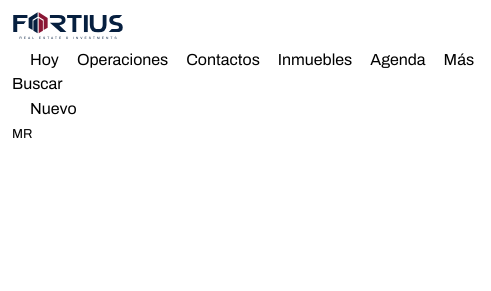
Test: la barra superior lleva seis píldoras, el buscador, «Nuevo» y la cuenta; sin Administración a la vista del asesor
This screenshot has width=491, height=291.
Check: the button "Buscar" is shown, box [12,72,63,96]
Click the button with aria-label "Mariana Ruiz, Asesor" at (22, 133), box [12,121,32,145]
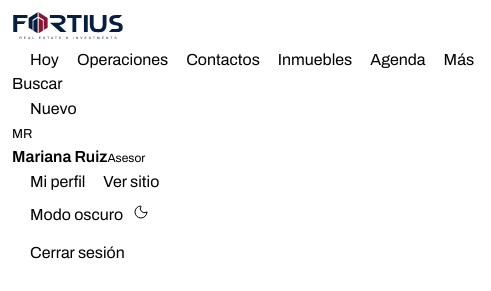
Check: the button "Cerrar sesión" is shown, box [12,230,125,274]
Check: the text "Asesor" is shown, box [107,151,145,165]
